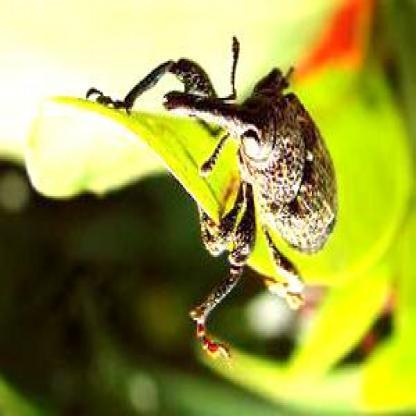rice-bug: (164, 64, 340, 312)
